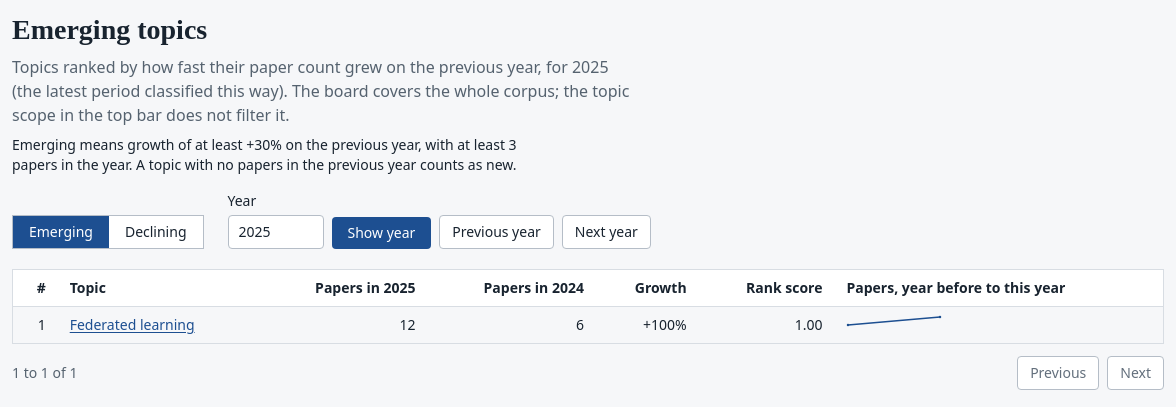
Test: TrendsBoard › asks the server for the other direction rather than filtering locally
Expected: the link "Federated learning" is shown, top-left (70, 315), bottom-right (195, 334)
Click the button "Declining": {"x": 156, "y": 232} top-left (109, 216), bottom-right (202, 248)
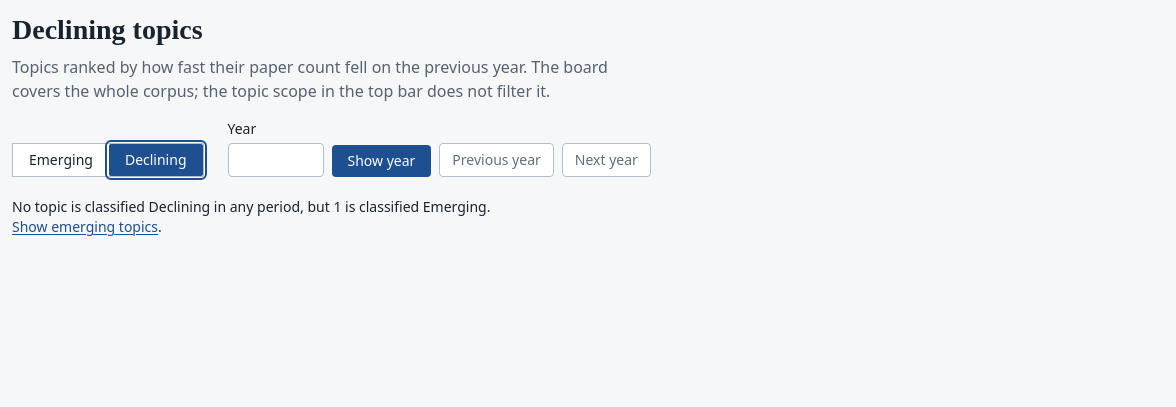
Expected: the heading "Declining topics" is shown, top-left (12, 14), bottom-right (203, 45)
